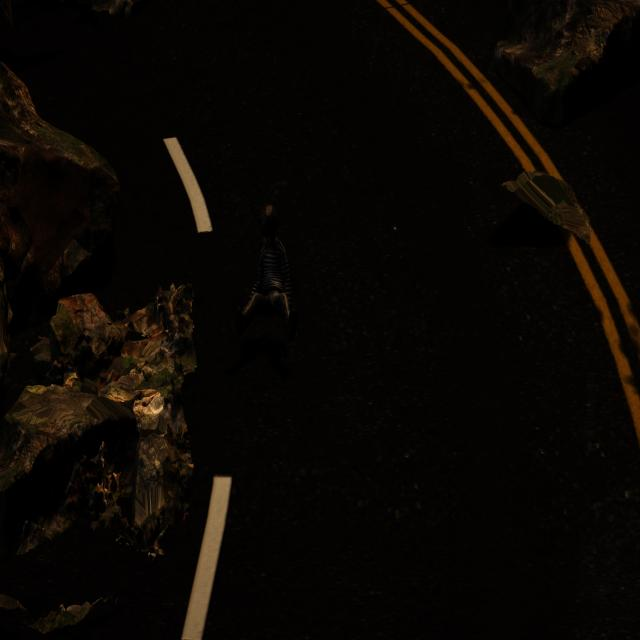Human: (233, 192, 299, 341)
